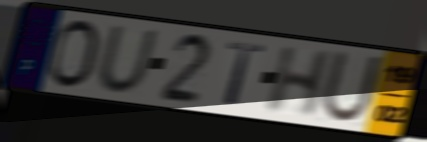2: (157, 31, 213, 108)
H: (262, 45, 337, 119)
O: (44, 18, 102, 91)
T: (223, 40, 269, 108)
U: (317, 47, 386, 127), (96, 24, 161, 96)
